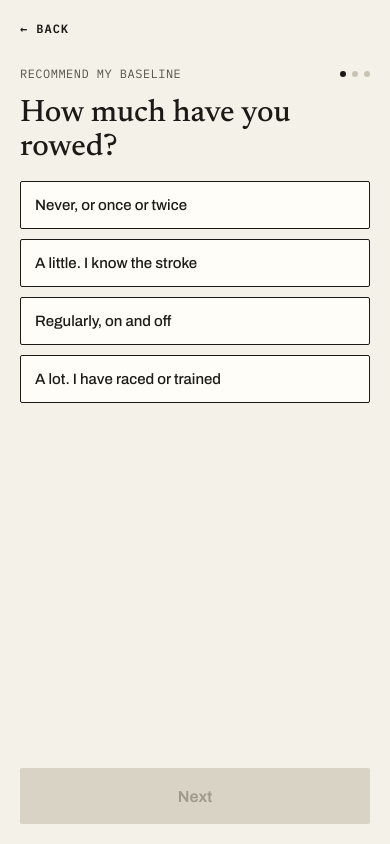
Test: Recommend (door 1) › auto-advance on pointer selection › tapping a cardio answer advances to the recommendation by itself
The image size is (390, 844).
Click the radio button labelled "A little. I know the stroke".
click(195, 263)  # box [20,239,370,287]
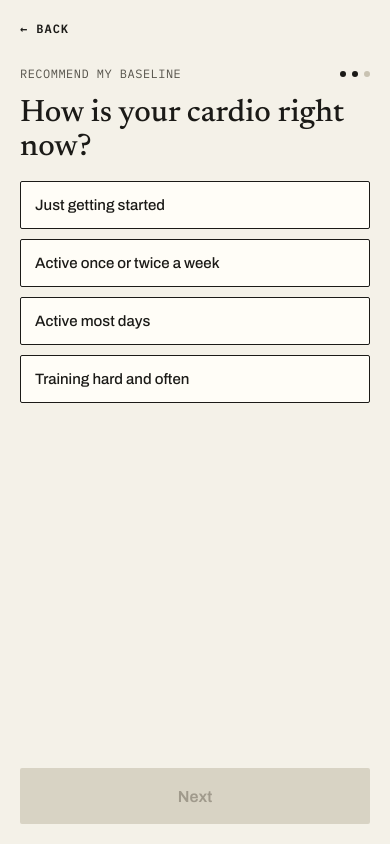
Click the radio button labelled "Active once or twice a week".
click(195, 263)  # box [20,239,370,287]
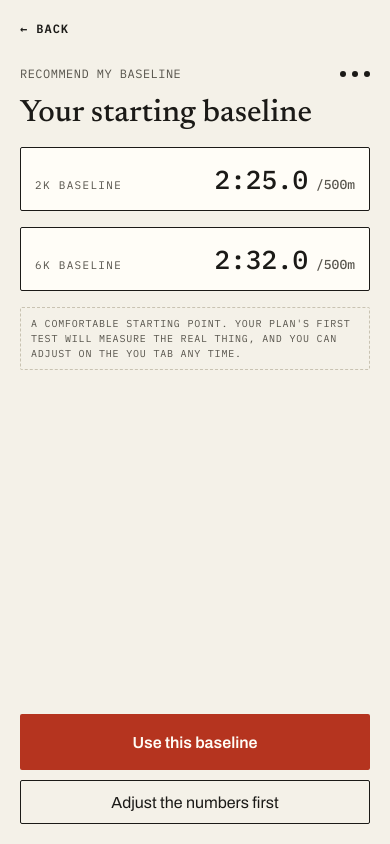
expect the heading "Your starting baseline" is shown: met, box [20,98,312,129]
expect the text "2:25.0" is shown: met, box [215,162,308,196]
expect the text "2:32.0" is shown: met, box [215,242,308,276]
